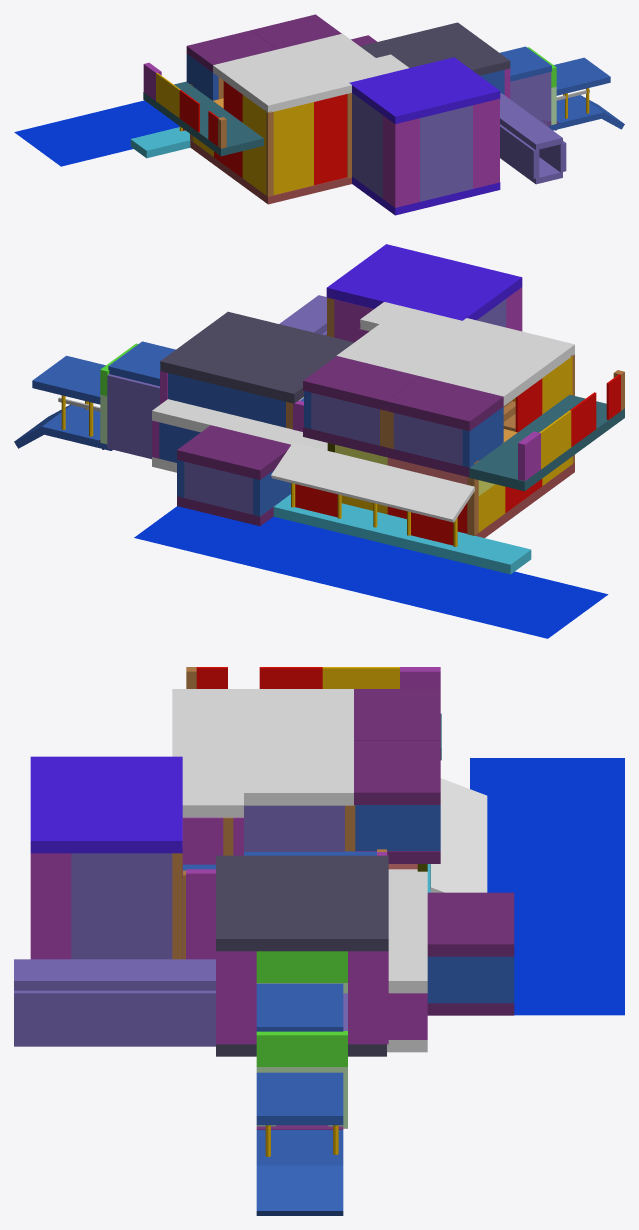
File: Blocky_MainRoomV2.fbx
3 views of the same model, one above another, from view 1: azimuth 30°, elevation 25°; view 2: azimuth 150°, elevation 25°; view 3: azimuth 270°, elevation 25° (orthographic). The views are drawn at different scales.
Parts seen in each view (by area): view 1: Cube.630, Cube.521, Plane.007, Cube.421, Cube.286, Cube.445, Cube.444, Cube.477, Cube.475, Cube.479, Cube.244, Cube.247 (+44 smaller); view 2: Plane.007, Cube.630, Cube.421, Cube.521, Cube.256, Cube.247, Cube.445, Cube.286, Cube.409, Cube.444, Cube.448, Cube.301 (+26 smaller); view 3: Plane.007, Cube.630, Cube.421, Cube.521, Cube.409, Cube.444, Cube.256, Cube.438, Cube.439, Cube.448, Cube.471, Cube.491 (+31 smaller).
Boxes of the visible parts, x1,y1,x2,y2 form: Cube.630: (213, 33, 408, 112); Cube.521: (349, 57, 500, 124); Plane.007: (14, 100, 179, 166); Cube.421: (360, 22, 510, 75); Cube.286: (143, 81, 263, 156); Cube.445: (186, 30, 276, 72); Cube.444: (251, 14, 341, 49); Cube.477: (420, 105, 472, 146); Cube.475: (420, 161, 472, 201); Cube.479: (420, 133, 472, 173); Cube.244: (190, 140, 351, 204); Cube.247: (130, 127, 190, 158); Plane.007: (134, 506, 608, 638); Cube.630: (336, 302, 574, 405); Cube.421: (160, 311, 353, 403); Cube.521: (326, 244, 522, 320); Cube.256: (271, 442, 474, 522); Cube.247: (273, 494, 531, 574); Cube.445: (386, 376, 503, 431); Cube.286: (469, 394, 624, 491); Cube.409: (177, 425, 290, 479); Cube.444: (303, 356, 419, 410); Cube.448: (152, 399, 327, 450); Cube.301: (393, 413, 462, 465); Plane.007: (470, 758, 624, 1015); Cube.630: (172, 689, 353, 817); Cube.421: (216, 855, 388, 951); Cube.521: (30, 756, 182, 853); Cube.409: (427, 892, 514, 956); Cube.444: (354, 741, 440, 804); Cube.256: (430, 778, 487, 892); Cube.438: (115, 990, 215, 1039); Cube.439: (14, 990, 114, 1039); Cube.448: (388, 869, 427, 993); Cube.471: (71, 853, 172, 899); Cube.491: (244, 805, 344, 851).
Size of the model in its own units: 10596 by 2746 by 6831.
